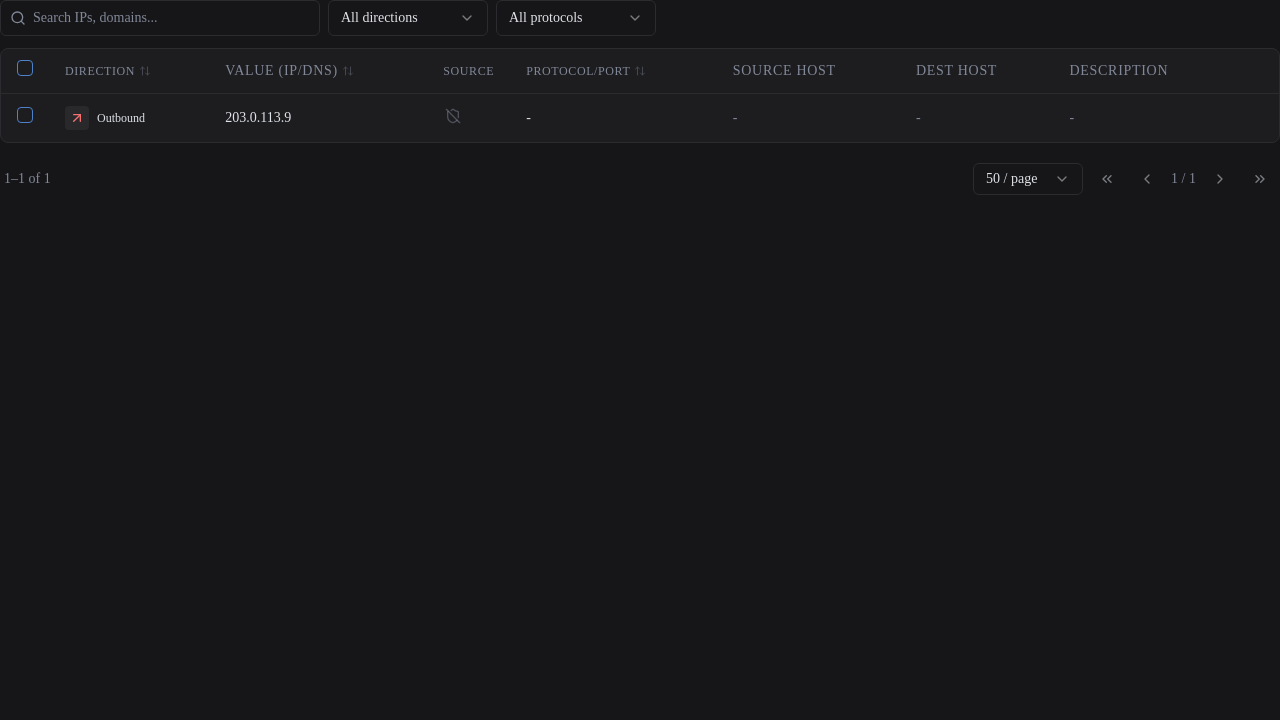
Test: bulk enrich on the Network IOCs and Malware tabs (C35) › Network IOCs: selecting a row offers Enrich (n) for its value
Expected: the text "203.0.113.9" is shown, [209,93,427,142]
Expected: the button "Enrich" is not shown
Step 1. Click the checkbox named "Select row" → click(25, 115), box [17,107,33,123]
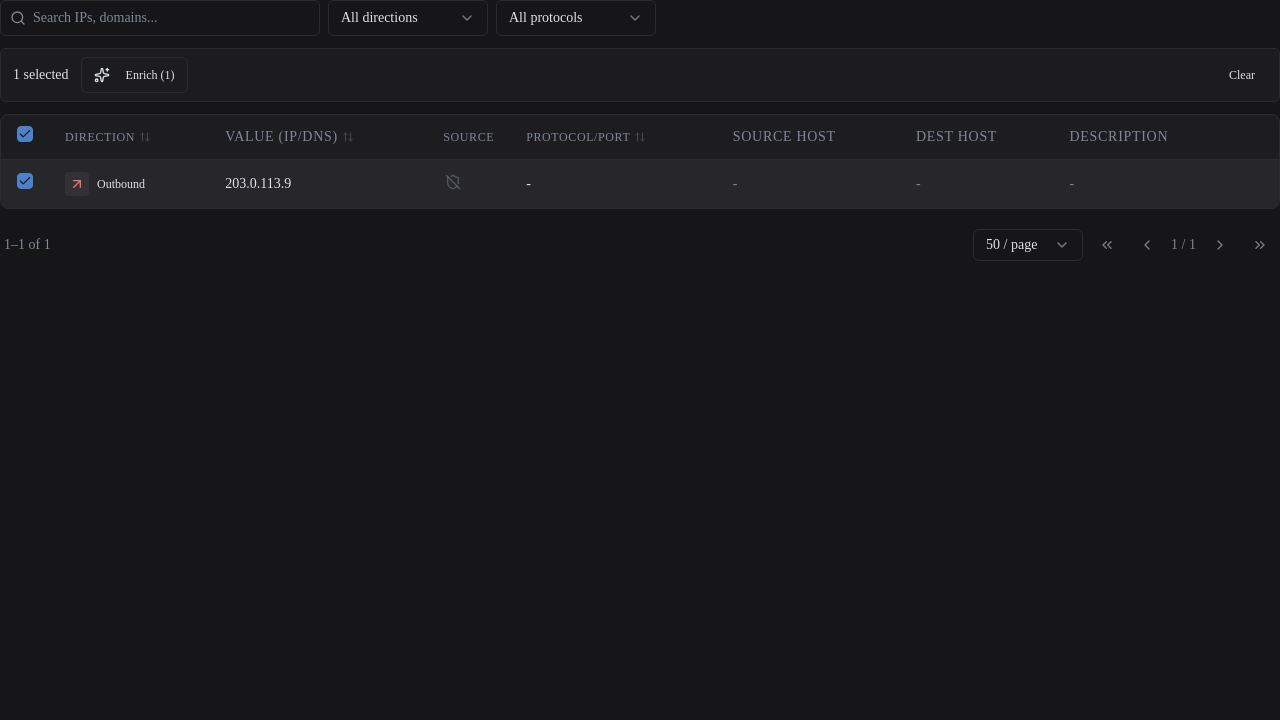
Step 2. Click the button "Enrich (1)" → click(134, 75), box [81,57,188,93]
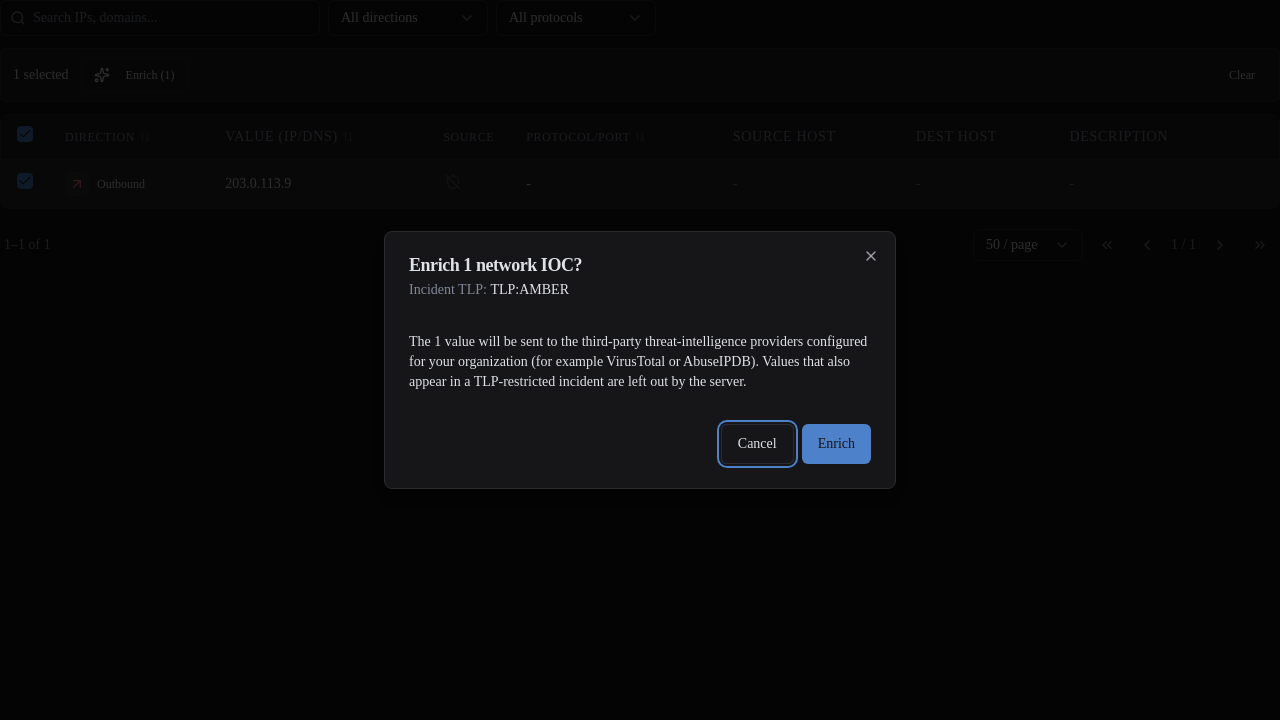
Result: the heading "Enrich 1 network IOC?" is shown at [409,255,582,275]
